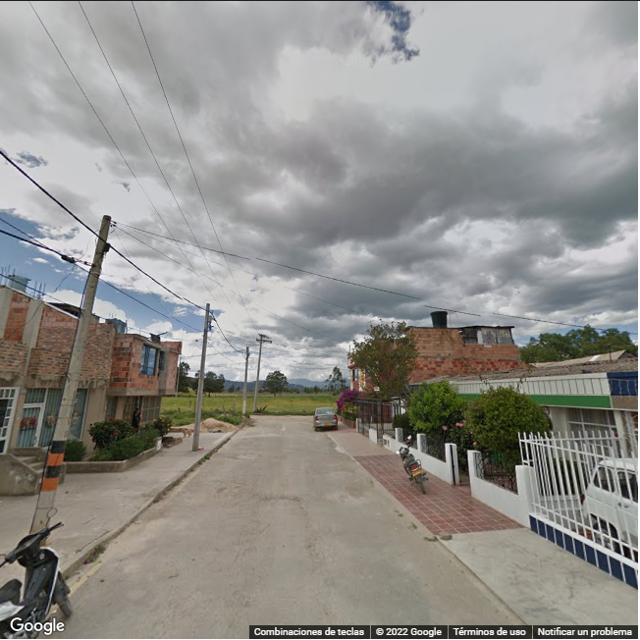D00: (290, 490, 308, 529), (236, 518, 245, 569), (310, 539, 315, 585)
